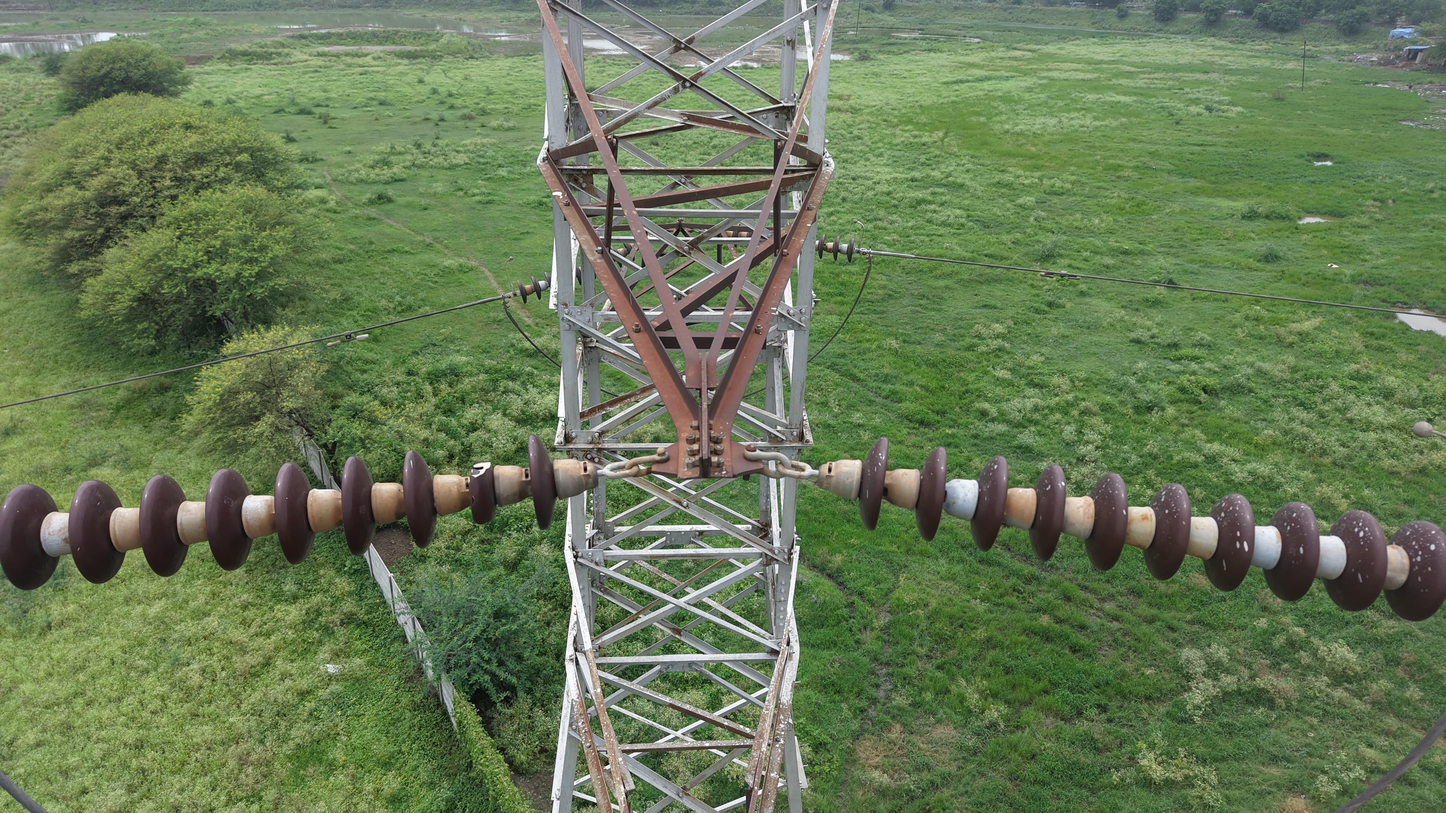broken_insulator: (441, 449, 518, 529)
